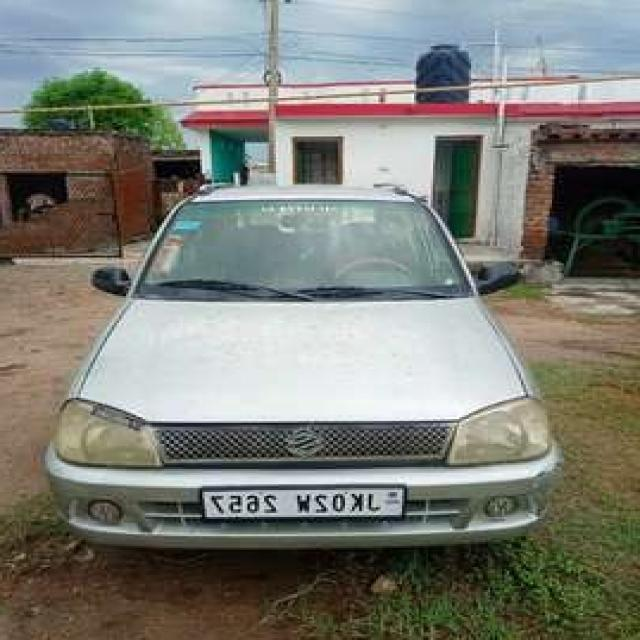license_plate: (194, 481, 414, 524)
